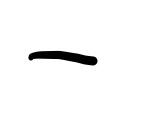minus: (27, 48, 97, 68)
